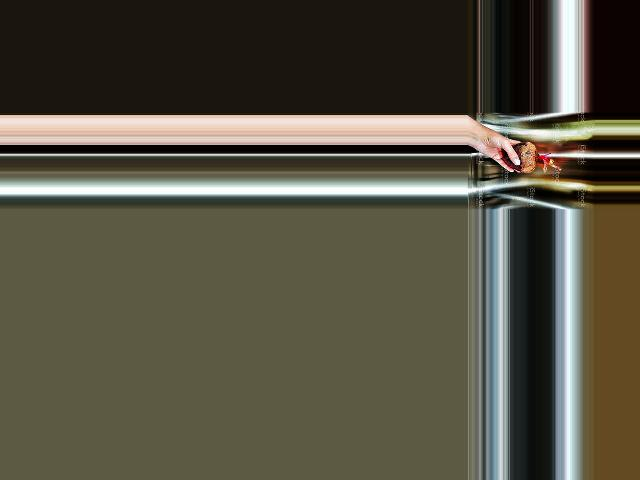beet: (503, 142, 560, 173)
